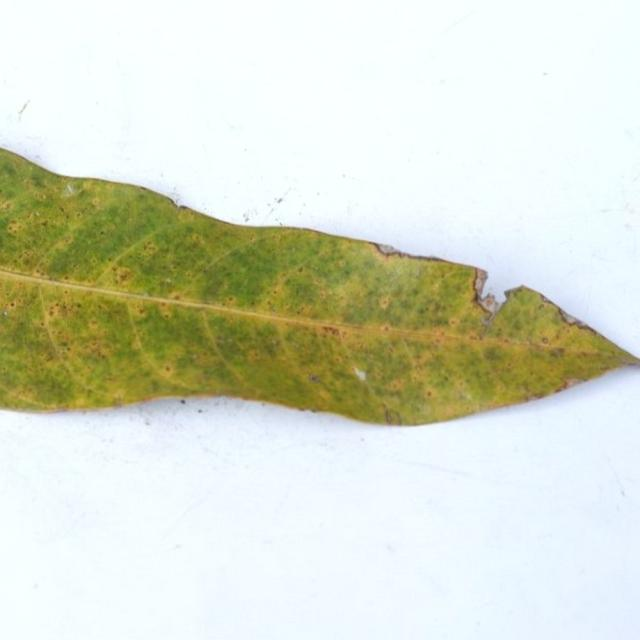Mango: (0, 149, 639, 424)
Powdery_Mildew: (2, 189, 90, 266), (47, 297, 84, 322), (105, 260, 140, 286), (86, 340, 108, 358), (384, 407, 402, 425), (7, 220, 24, 234), (553, 378, 570, 392), (321, 326, 342, 337), (143, 241, 158, 254), (388, 379, 404, 391), (215, 336, 231, 348), (550, 347, 565, 357), (1, 200, 13, 211), (379, 297, 390, 308), (337, 329, 349, 338), (470, 333, 483, 341), (91, 197, 101, 207), (319, 290, 329, 299), (135, 306, 145, 315), (456, 380, 466, 389), (449, 318, 460, 326), (33, 267, 43, 275), (310, 374, 320, 382), (337, 260, 346, 268), (537, 303, 546, 311), (163, 311, 171, 319), (381, 325, 390, 332), (503, 337, 512, 344), (48, 309, 56, 316), (541, 337, 549, 344), (173, 294, 182, 300), (227, 296, 235, 302), (297, 267, 304, 273), (272, 289, 279, 295), (8, 302, 15, 308), (165, 366, 171, 372), (426, 391, 432, 397), (192, 354, 198, 360), (272, 340, 278, 346), (39, 322, 45, 327)
